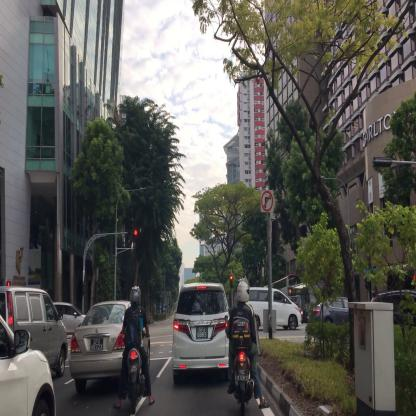red_traffic_light: (127, 228, 138, 236), (230, 274, 233, 290)
